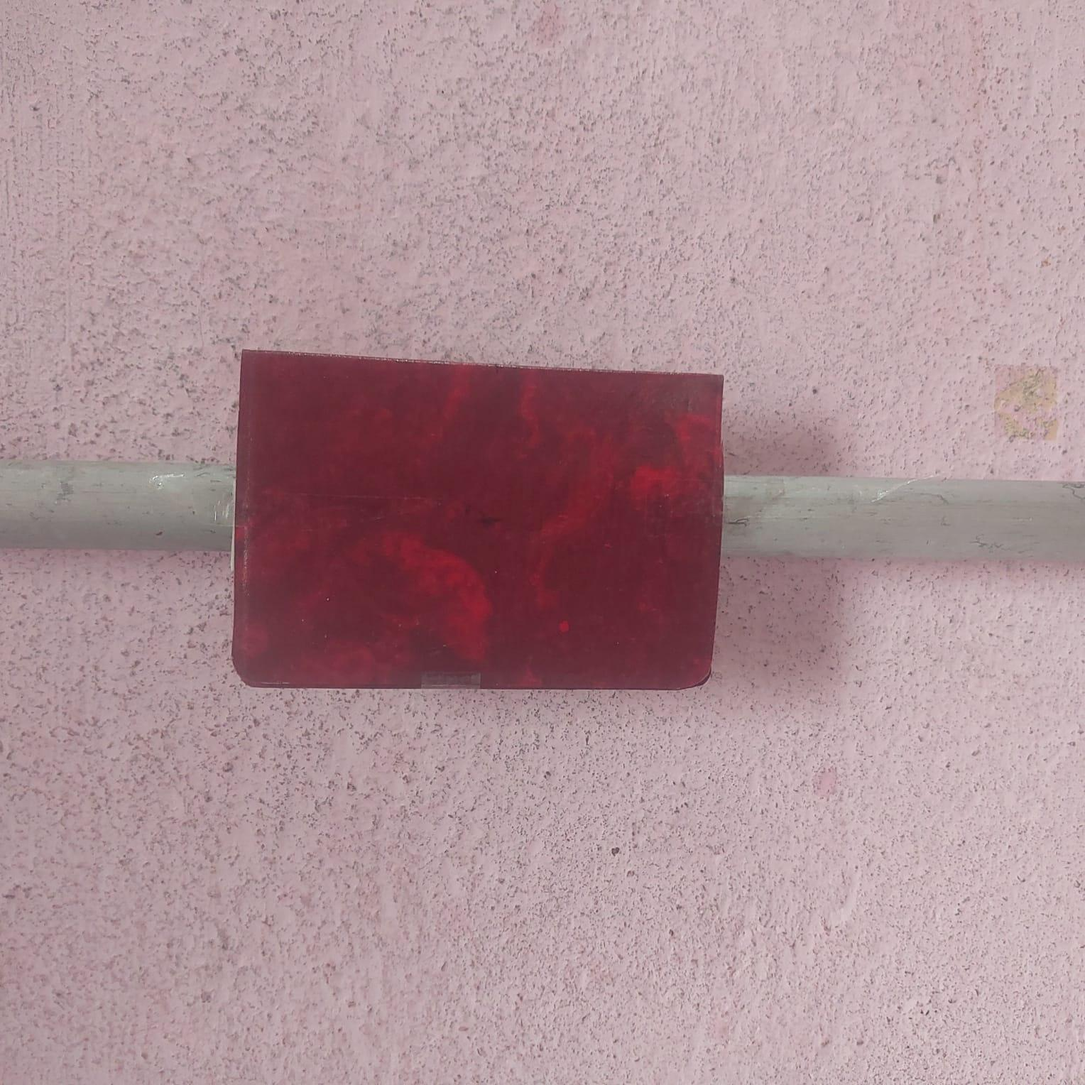wallet: (235, 350, 729, 687)
